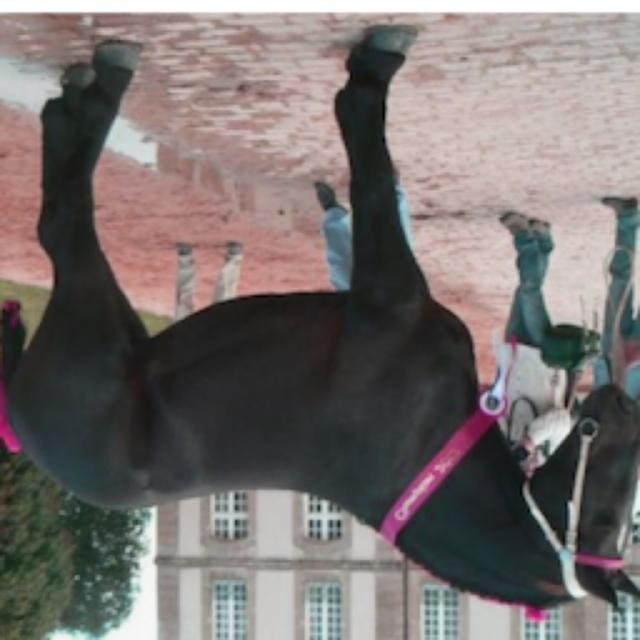Horse: (0, 25, 638, 620)
